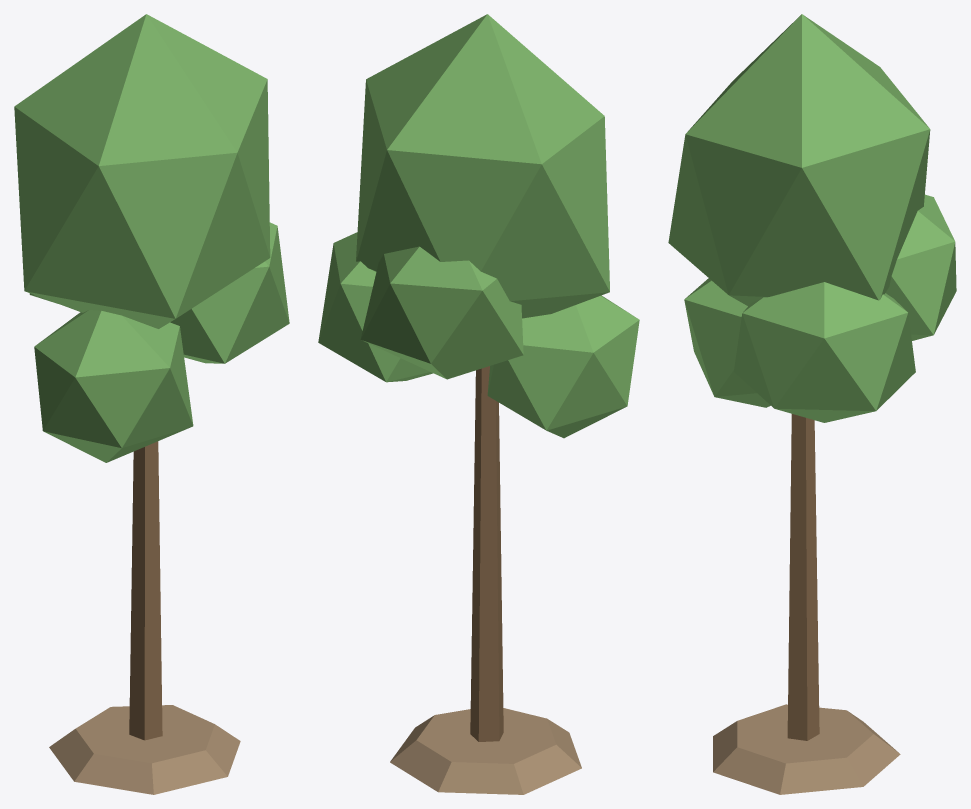
The model's file is sapling.glb.
3 renders of one model, left to right at view 1: azimuth 30°, elevation 25°; view 2: azimuth 150°, elevation 25°; view 3: azimuth 270°, elevation 25°, orthographic.
Visible parts, largest first — view 1: sapling; view 2: sapling; view 3: sapling.
Boxes of the visible parts, left/top/right/bottom form: sapling: left=14, top=14, right=289, bottom=794; sapling: left=318, top=14, right=639, bottom=794; sapling: left=668, top=14, right=956, bottom=794.
Size of the model in its own units: 0.6811 by 1.82 by 0.6421.
